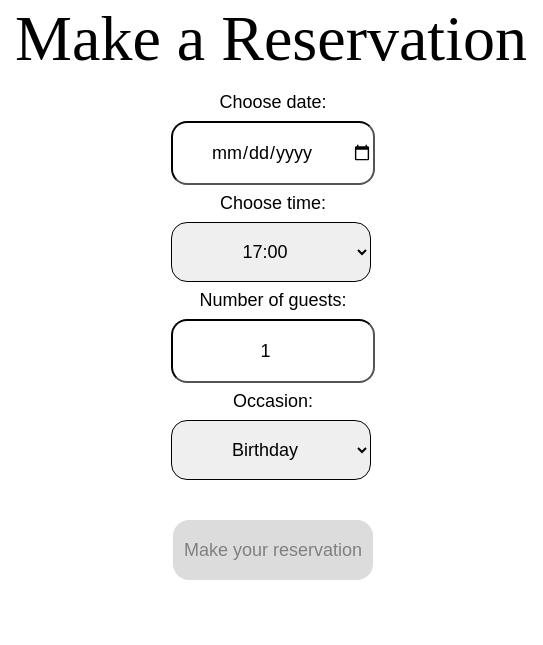
Invalid occasion creates error
Select "Wedding" in the dropdown with id "occasion" at (271, 450), box [171,420,371,480]
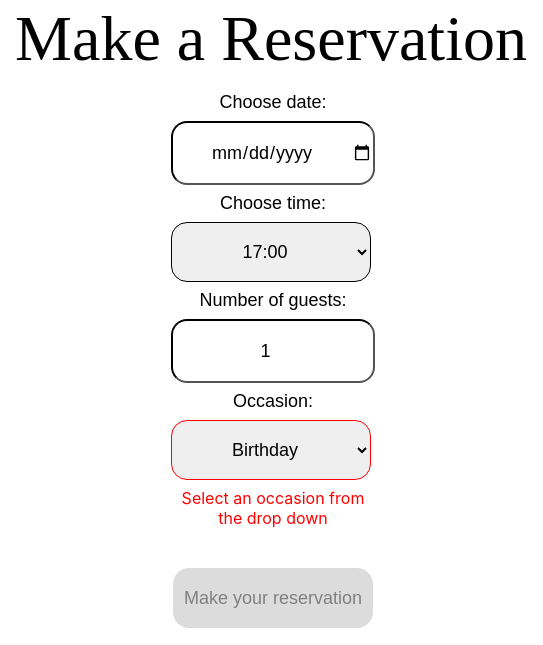
expect the text "Select an occasion from the drop down" is shown: met, box [171,488,375,528]
